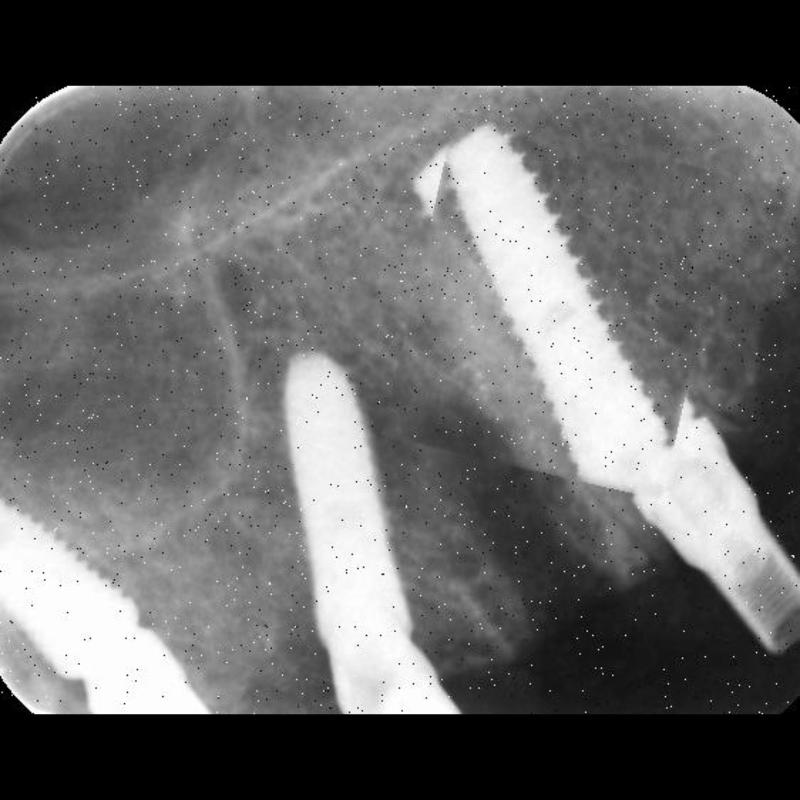Dentium: (398, 127, 718, 487)
